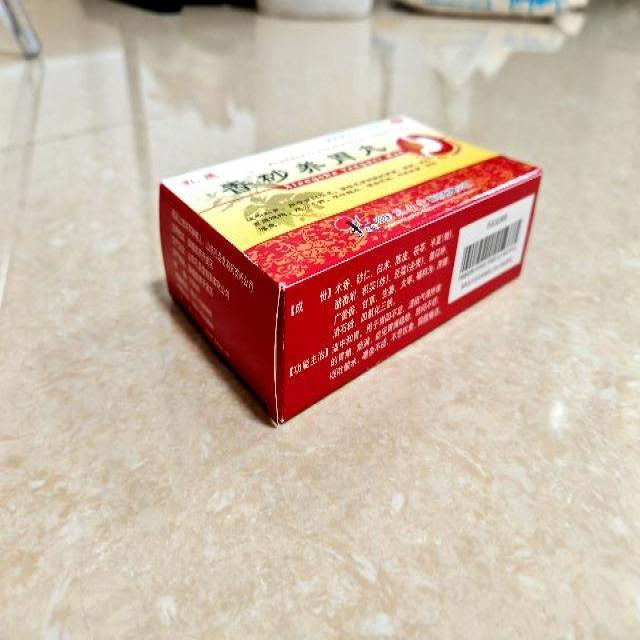box: (158, 112, 542, 424)
